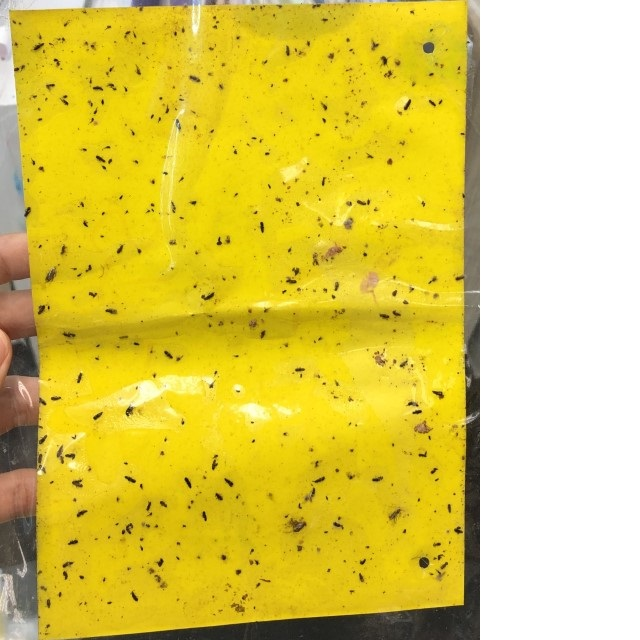DBM: (290, 518, 309, 536), (45, 265, 58, 283)
